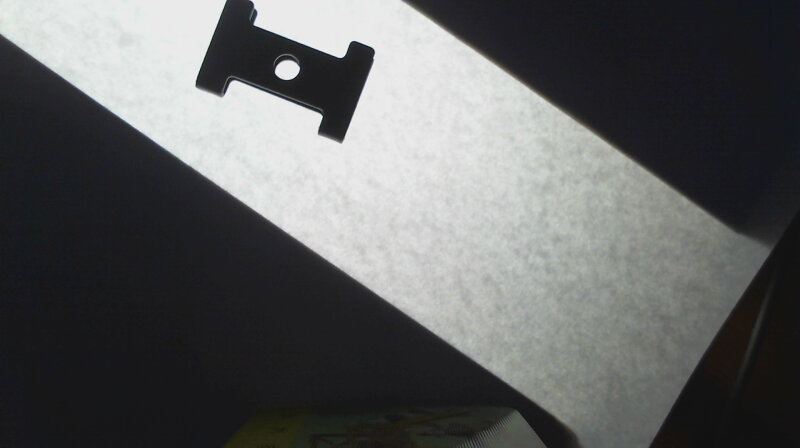O002: (200, 0, 377, 144)
